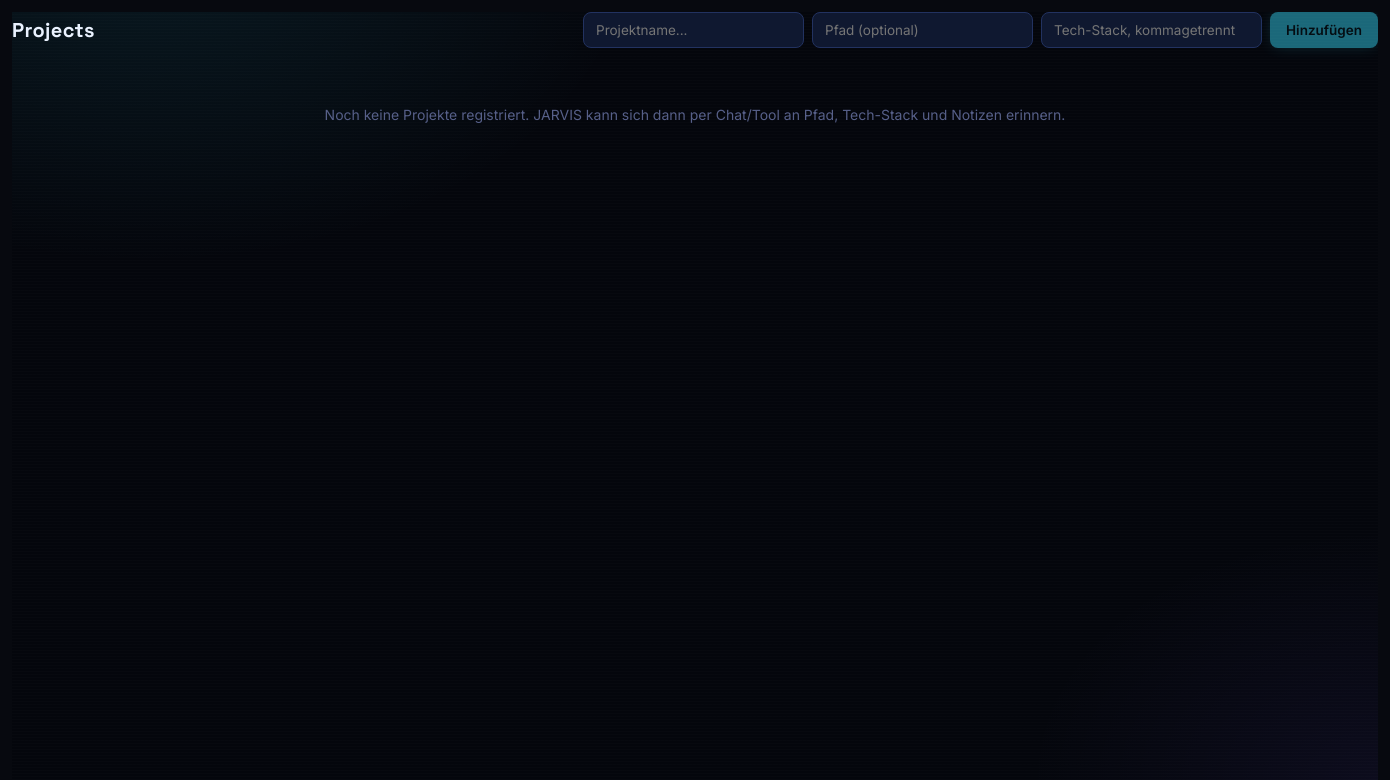
Scenario: ProjectsView › creates a new project
Type "AlwaysMC" into the field with placeholder "Projektname..." at (694,30), box [583,12,804,48]
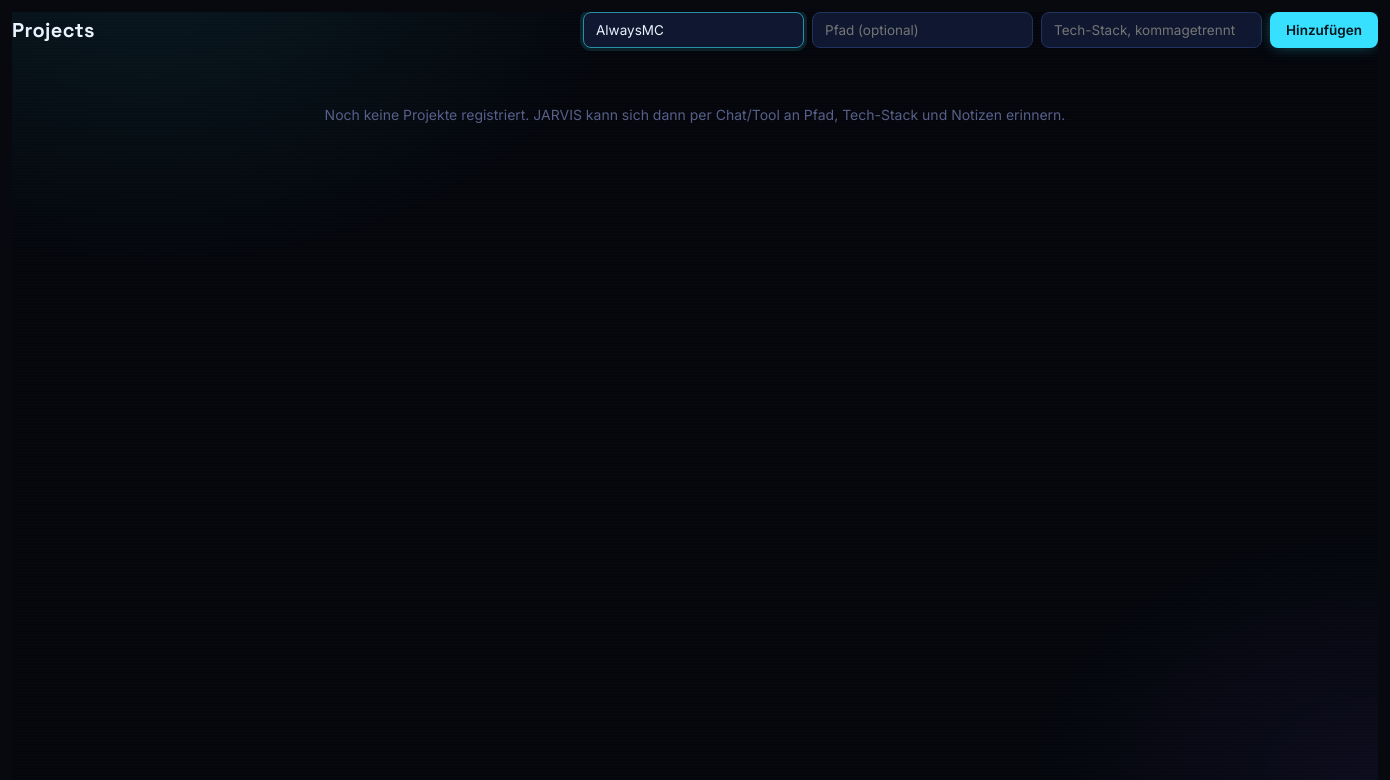
Click the button "Hinzufügen" at (1324,30), box [1270,12,1378,48]
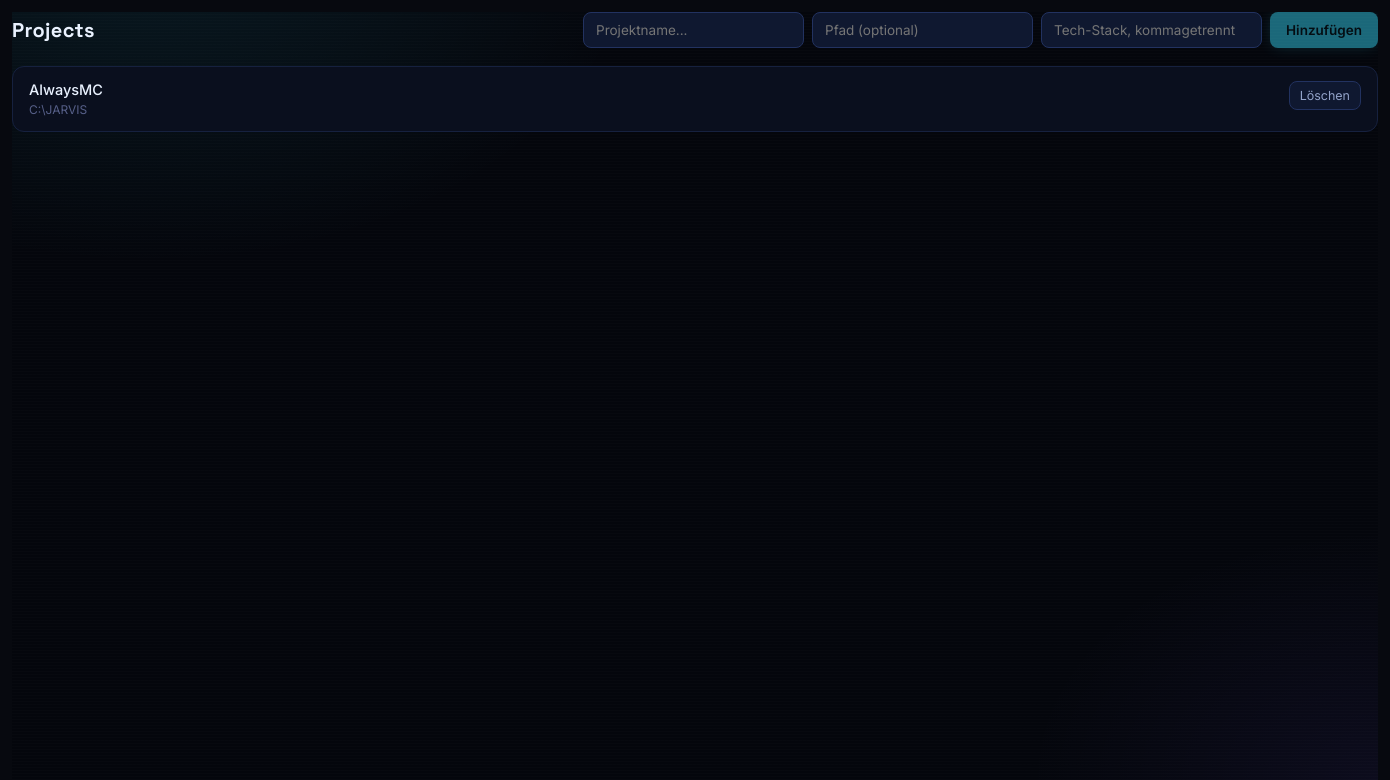
Now the text "AlwaysMC" is shown, box [29,81,103,98]
